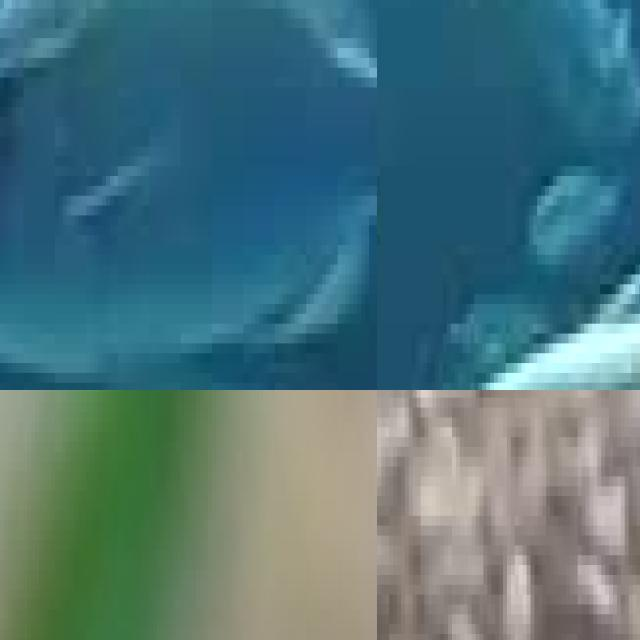fish: (0, 0, 377, 390), (377, 390, 640, 640)
